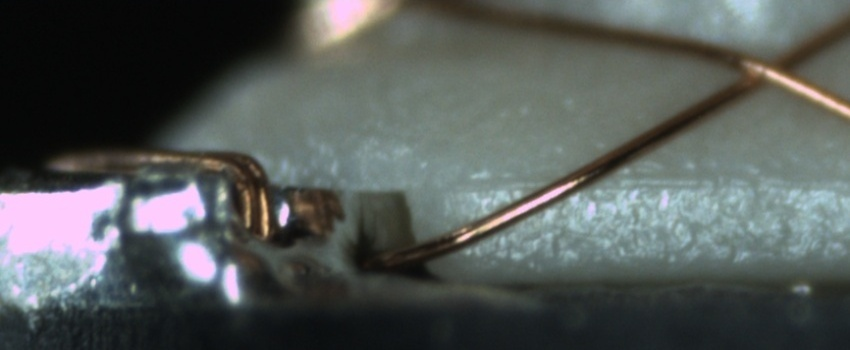CL: (722, 36, 822, 102)
DL: (446, 154, 849, 209)
TE: (43, 141, 281, 246)
